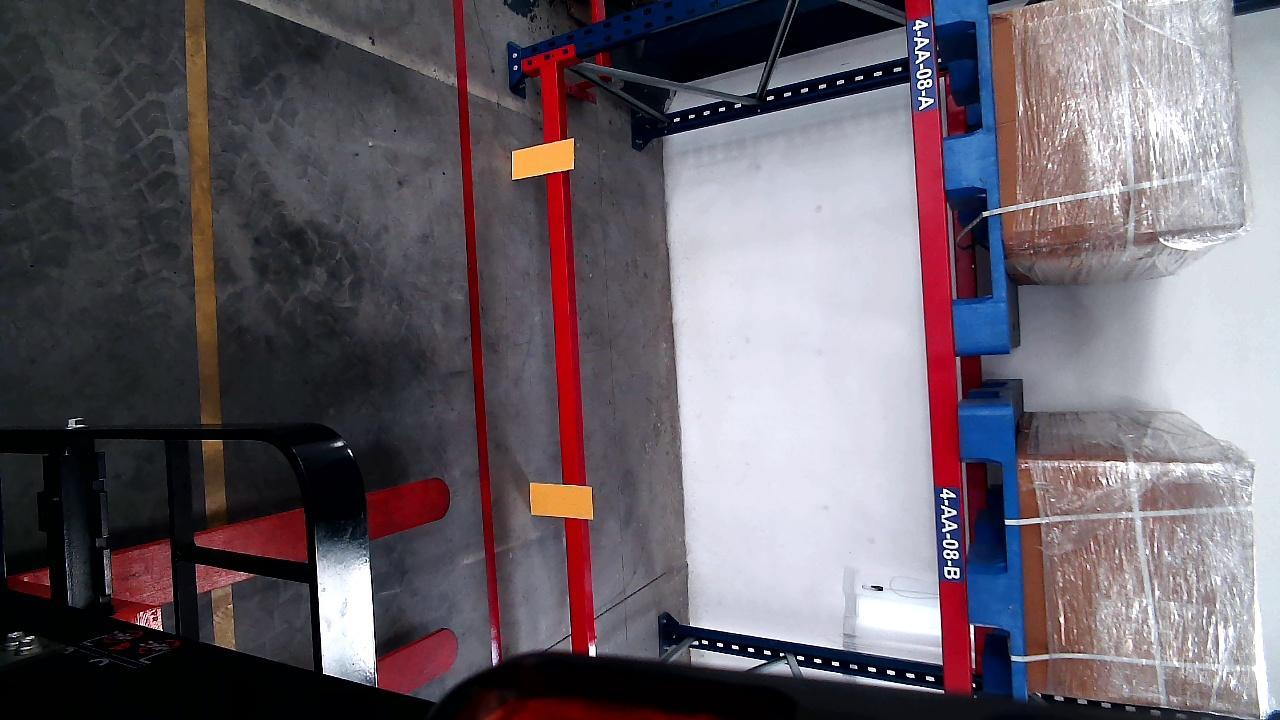red_line: (453, 1, 500, 668)
